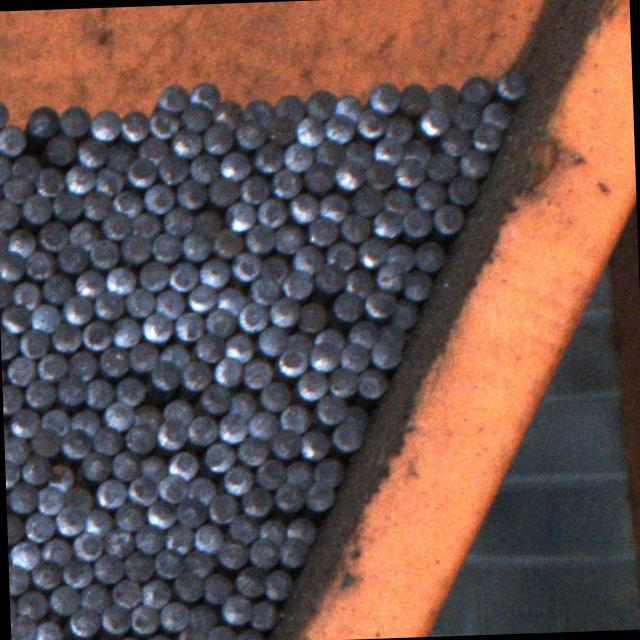tool: (186, 195, 237, 242), (335, 382, 384, 428), (24, 103, 59, 135), (223, 329, 256, 362), (273, 220, 306, 253), (200, 570, 232, 604), (272, 480, 306, 512), (304, 478, 336, 512), (331, 419, 365, 451), (68, 218, 102, 250), (58, 102, 90, 136), (296, 300, 330, 332), (324, 239, 358, 271), (306, 214, 340, 246), (413, 178, 447, 210), (397, 80, 429, 114), (458, 74, 492, 106), (294, 369, 329, 400), (423, 151, 458, 182), (480, 100, 515, 131), (290, 243, 326, 273), (264, 568, 296, 601), (206, 491, 238, 524), (166, 448, 199, 480), (60, 426, 92, 459), (242, 355, 274, 388), (49, 321, 82, 353), (141, 309, 173, 342), (237, 300, 270, 332), (260, 379, 292, 412), (308, 340, 341, 372), (338, 340, 371, 372), (368, 338, 401, 370), (400, 204, 432, 237), (255, 195, 288, 227), (288, 191, 320, 224), (339, 134, 372, 166), (439, 124, 472, 156), (495, 67, 528, 99), (7, 480, 38, 514), (299, 426, 330, 460), (82, 376, 116, 407), (218, 149, 252, 180), (72, 528, 104, 560), (18, 452, 50, 484), (314, 393, 346, 425), (92, 288, 124, 320), (216, 284, 248, 316), (150, 230, 182, 262), (206, 174, 238, 206), (238, 172, 270, 204), (330, 290, 362, 322), (352, 184, 384, 216), (305, 87, 337, 119), (29, 426, 62, 457), (66, 349, 99, 380), (32, 166, 65, 197), (76, 135, 107, 168), (67, 606, 101, 636), (200, 382, 230, 416), (22, 378, 56, 408), (148, 360, 182, 390), (90, 108, 120, 142), (158, 600, 189, 632), (241, 485, 273, 516), (126, 474, 158, 505), (188, 474, 220, 505), (314, 454, 346, 485), (91, 423, 122, 455), (101, 399, 132, 431), (198, 255, 230, 286), (24, 248, 56, 279), (56, 242, 88, 273), (120, 232, 151, 264), (210, 226, 242, 257), (202, 122, 233, 154), (210, 98, 241, 130), (446, 173, 478, 204), (78, 582, 111, 612), (192, 522, 225, 552), (235, 436, 268, 466), (87, 238, 120, 268), (169, 128, 202, 158), (369, 208, 402, 238), (382, 184, 415, 214), (303, 160, 336, 190), (43, 133, 77, 162), (48, 583, 79, 614), (79, 450, 110, 481), (270, 427, 301, 458), (156, 418, 187, 449), (168, 260, 199, 291), (382, 110, 413, 141), (368, 81, 399, 112), (15, 590, 47, 620), (62, 556, 92, 588), (246, 538, 278, 568), (40, 535, 70, 567), (94, 476, 126, 506), (222, 464, 254, 494), (124, 422, 156, 452), (108, 316, 140, 346), (60, 294, 92, 324), (124, 287, 156, 317), (104, 264, 136, 294), (138, 258, 168, 290), (224, 200, 256, 230), (175, 178, 207, 208), (234, 118, 266, 148), (156, 82, 188, 112), (268, 296, 298, 328), (414, 240, 446, 270), (432, 202, 464, 232), (372, 134, 402, 166), (160, 398, 193, 427), (417, 106, 450, 135), (110, 578, 141, 608), (140, 577, 170, 608), (23, 511, 54, 541), (228, 388, 258, 419), (193, 332, 224, 362), (17, 328, 48, 358), (203, 306, 234, 336), (29, 302, 60, 332), (154, 288, 185, 318), (41, 272, 72, 302), (20, 192, 51, 222), (119, 109, 149, 140), (181, 100, 212, 130), (348, 318, 379, 348), (362, 288, 393, 318), (281, 268, 312, 298), (338, 212, 369, 242), (320, 192, 351, 222), (270, 168, 301, 198), (354, 107, 384, 138), (334, 91, 364, 122), (122, 550, 154, 579), (114, 501, 146, 530), (278, 403, 310, 432), (36, 352, 68, 381), (162, 207, 194, 236), (136, 135, 168, 164), (358, 364, 387, 396), (276, 347, 308, 376), (458, 149, 490, 178), (323, 112, 355, 141), (111, 188, 144, 216), (242, 96, 275, 124), (250, 600, 280, 630), (92, 552, 122, 582), (132, 523, 162, 553), (163, 524, 193, 554), (54, 504, 84, 534), (146, 498, 176, 528), (176, 496, 206, 526), (36, 484, 66, 514), (255, 458, 285, 488), (284, 458, 314, 488), (204, 442, 234, 472), (218, 411, 248, 441), (40, 406, 70, 436), (182, 360, 212, 390), (212, 356, 242, 386), (100, 344, 130, 374), (80, 320, 110, 350), (181, 230, 211, 260), (38, 220, 68, 250), (144, 182, 174, 212), (2, 173, 32, 203), (126, 156, 156, 186), (328, 366, 358, 396), (390, 297, 420, 327), (250, 274, 280, 304), (343, 266, 373, 296), (402, 269, 432, 299), (260, 250, 290, 280), (244, 222, 274, 252), (363, 160, 393, 190), (470, 120, 500, 150), (185, 414, 216, 443), (5, 226, 36, 255), (156, 153, 187, 182), (374, 262, 405, 291), (358, 236, 387, 267), (112, 448, 140, 480), (70, 406, 102, 434), (129, 211, 161, 239), (51, 190, 83, 218), (312, 262, 344, 290), (158, 340, 192, 366), (188, 603, 218, 632), (172, 572, 201, 602), (30, 559, 60, 588), (155, 546, 184, 576), (279, 536, 308, 566), (226, 513, 256, 542), (158, 474, 187, 504), (6, 356, 36, 385), (128, 341, 157, 371), (148, 109, 178, 138), (275, 92, 305, 121), (386, 240, 415, 270), (284, 140, 313, 170), (130, 603, 158, 634), (218, 538, 246, 569), (286, 516, 317, 544), (115, 376, 146, 404), (186, 283, 217, 311), (9, 152, 42, 178), (101, 603, 130, 632), (221, 594, 250, 623), (10, 408, 39, 437), (174, 311, 203, 340), (64, 164, 93, 193), (94, 165, 123, 194), (450, 100, 479, 129), (184, 549, 214, 577), (8, 538, 38, 566), (103, 528, 133, 556), (56, 374, 84, 404), (12, 278, 40, 308), (74, 268, 104, 296), (230, 250, 260, 278), (100, 210, 130, 238), (254, 142, 284, 170), (106, 141, 134, 171), (189, 80, 219, 108), (258, 325, 286, 355), (336, 160, 364, 190), (394, 158, 424, 186), (312, 138, 342, 166), (402, 138, 432, 166), (430, 82, 460, 110), (48, 460, 74, 492), (236, 565, 264, 594), (0, 302, 29, 330), (82, 190, 111, 218), (296, 115, 324, 144), (188, 152, 218, 179), (0, 123, 25, 155), (314, 327, 346, 352), (84, 506, 112, 534), (248, 409, 276, 437), (266, 116, 294, 144), (64, 484, 92, 511), (138, 454, 166, 481), (378, 322, 407, 348), (132, 402, 160, 428), (285, 328, 313, 354), (4, 434, 28, 464), (0, 249, 23, 280), (258, 518, 284, 545), (10, 613, 35, 640), (32, 618, 62, 640), (8, 564, 28, 596), (0, 198, 20, 228), (6, 512, 24, 545), (2, 382, 21, 413), (0, 329, 18, 359), (177, 624, 207, 640), (235, 624, 264, 640), (208, 623, 235, 640), (4, 457, 18, 488), (0, 278, 13, 305), (0, 154, 11, 183), (0, 98, 9, 130), (142, 633, 175, 640)
